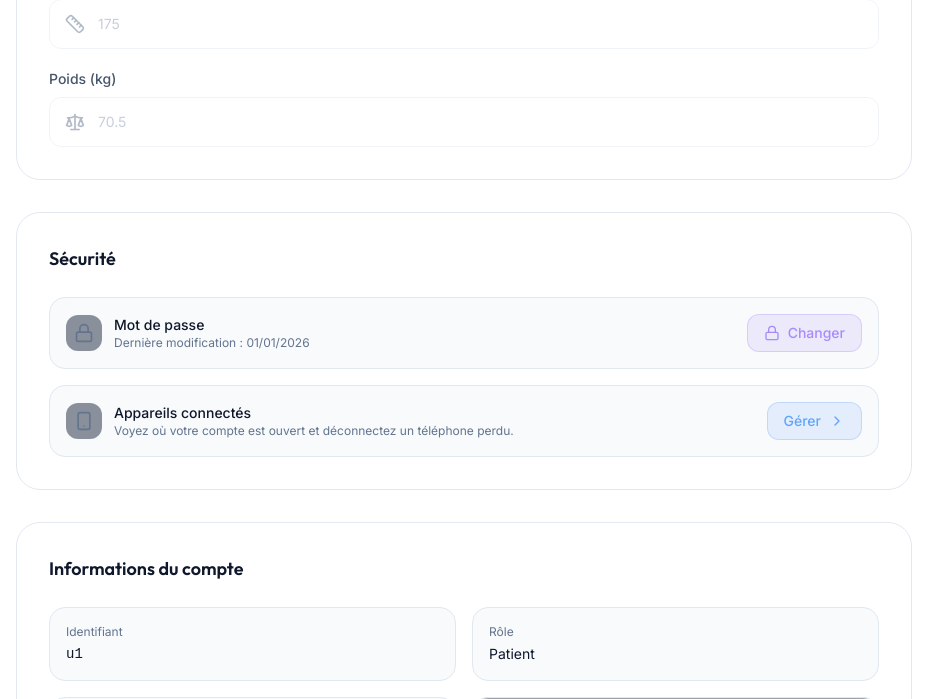
Scenario: Profil : sécurité et appareils connectés › déconnecte les autres appareils par défaut et montre le message de réussite
(page scrolled)
Click the button "Changer".
click(804, 333)  # box [747,314,862,352]
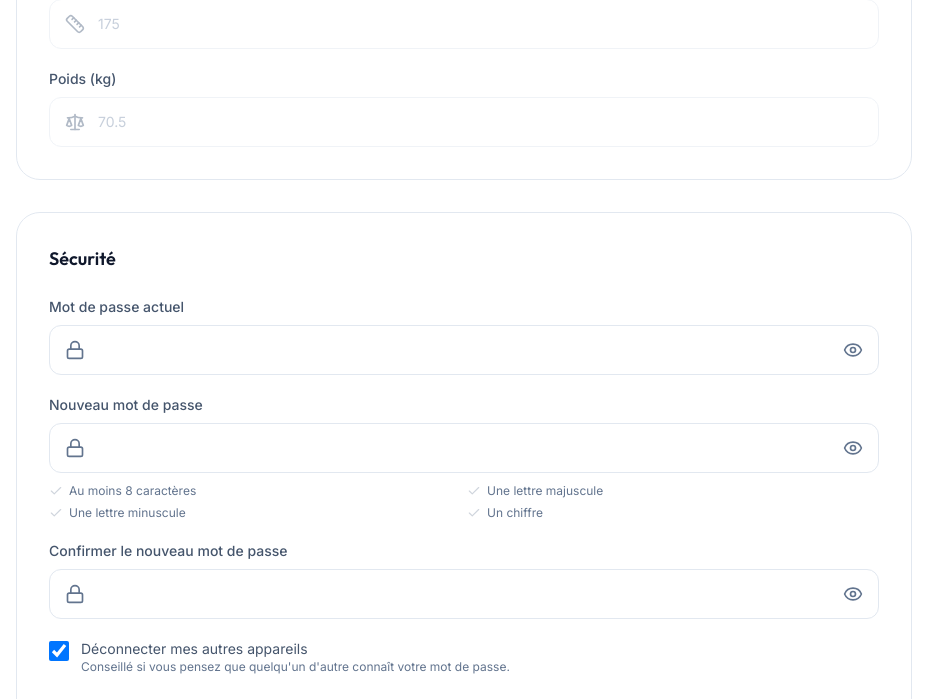
Now the checkbox labelled "Déconnecter mes autres appareils" is checked, box [49,641,69,661]
Type "Ancien123" into the password field labelled "Mot de passe actuel".
click(464, 350); type("Ancien123")  # box [49,325,879,375]
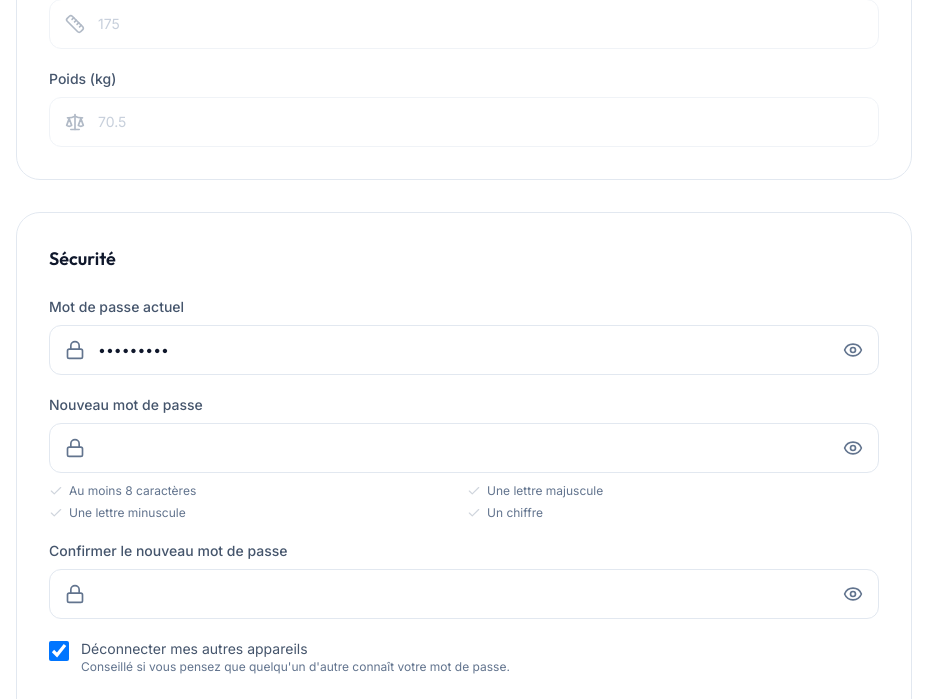
Type "Nouveau123" into the password field labelled "Nouveau mot de passe".
click(464, 448); type("Nouveau123")  # box [49,423,879,473]
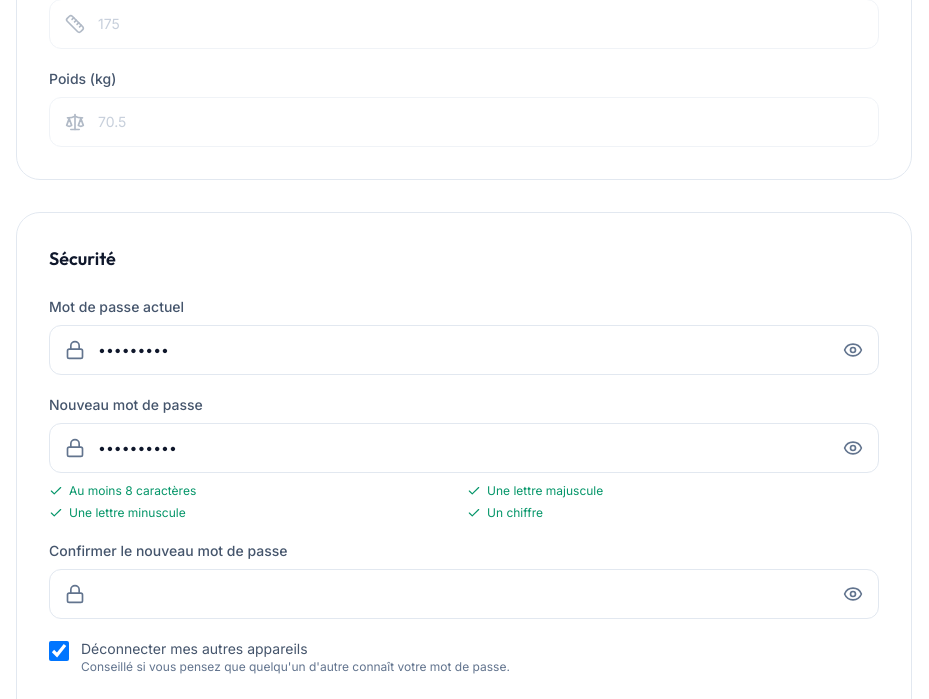
Type "Nouveau123" into the password field labelled "Confirmer le nouveau mot de passe".
click(464, 594); type("Nouveau123")  # box [49,569,879,619]
(page scrolled)
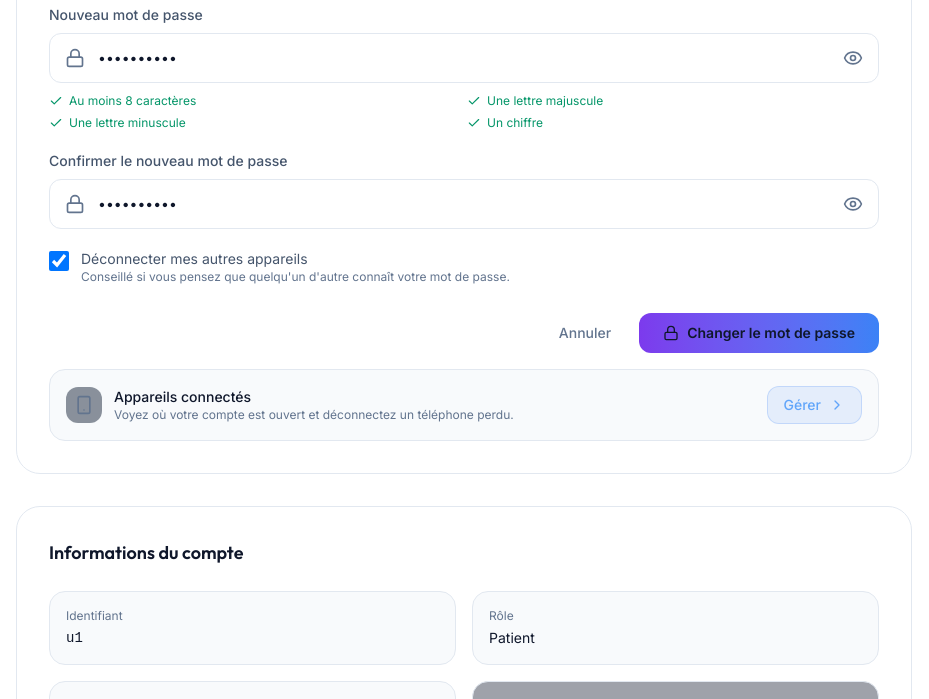
Click the button "Changer le mot de passe".
click(759, 333)  # box [639,313,879,353]
(page scrolled)
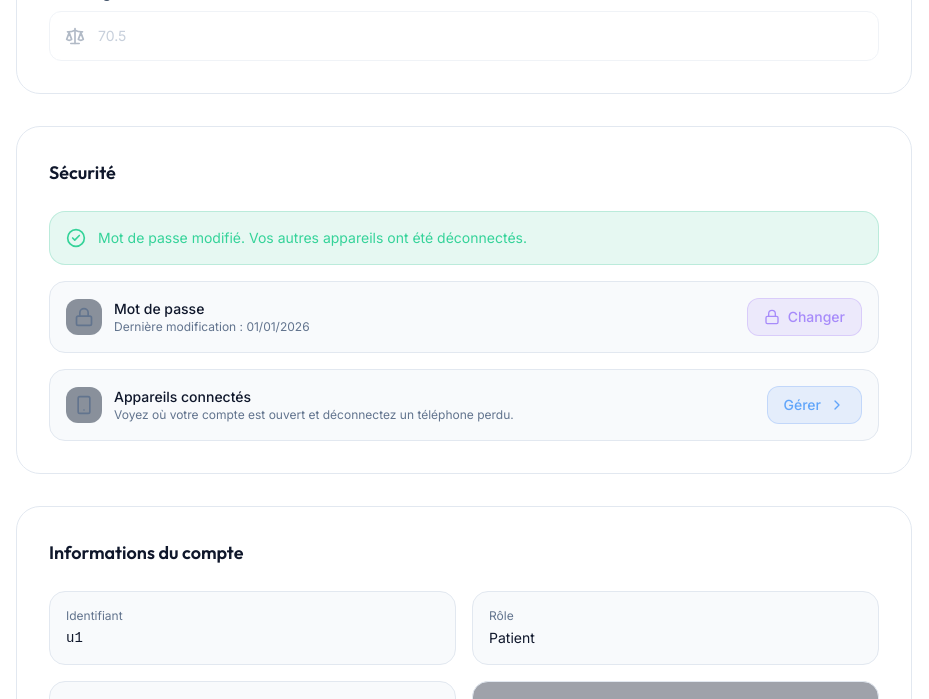
Now the text "Mot de passe modifié. Vos autres appareils ont été déconnectés." is shown, box [98,228,527,248]
